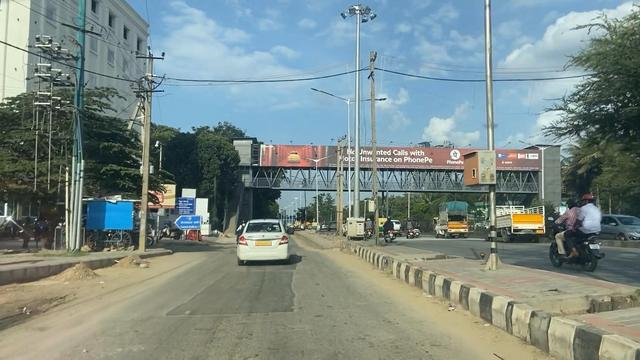LMV: (232, 214, 288, 267)
UnsurfacedRoad: (183, 284, 308, 314)
